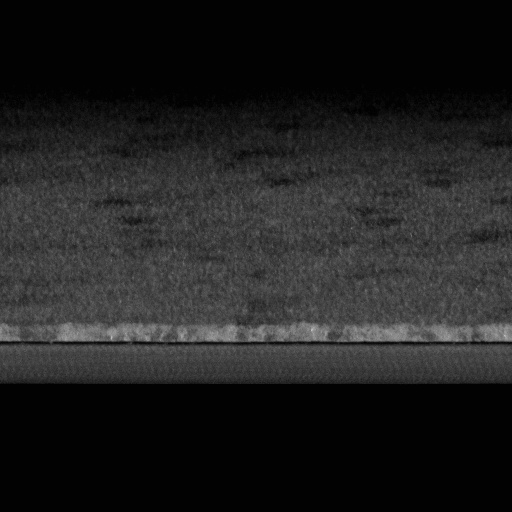jiaofeng: (0, 339, 511, 352)
